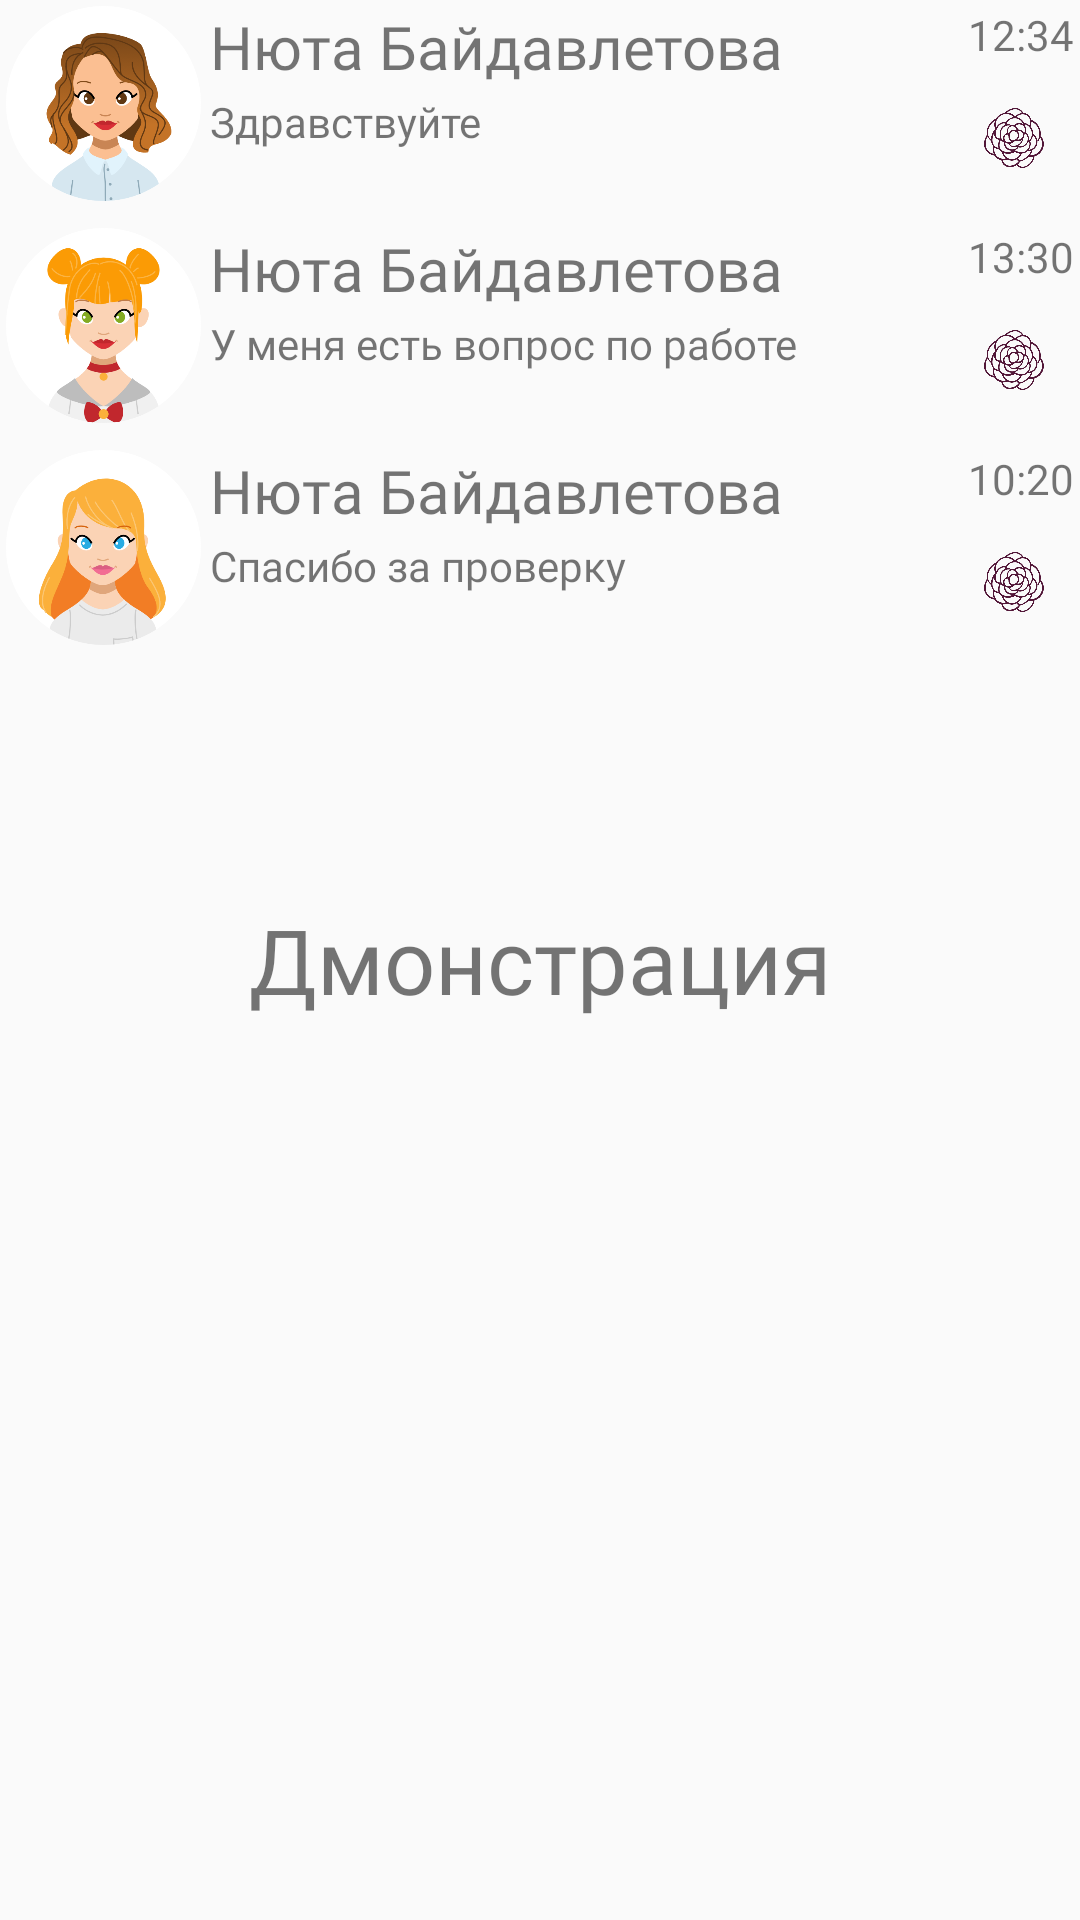

Locate icon controls on the screen. Image size 1080px x 1920px, boxes as (x1, y1, x2, y2).
flower: (984, 108, 1044, 168), (984, 330, 1044, 390), (984, 552, 1044, 612)
